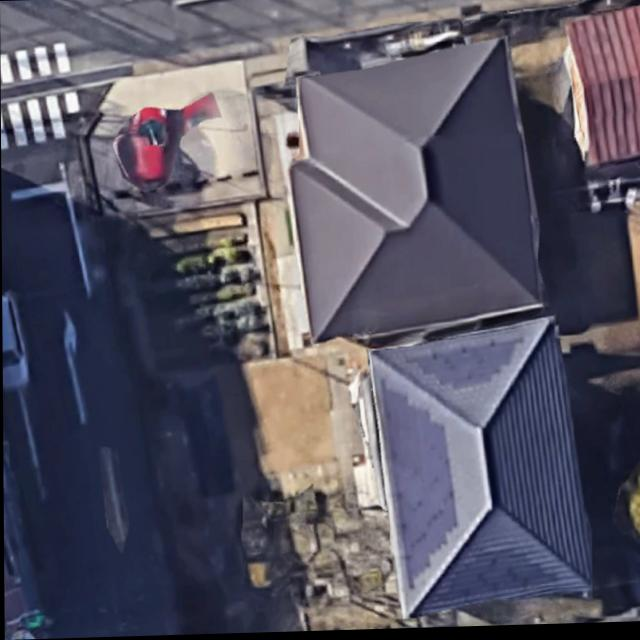Batiment: (291, 41, 543, 341), (370, 319, 591, 617), (565, 9, 640, 168)
